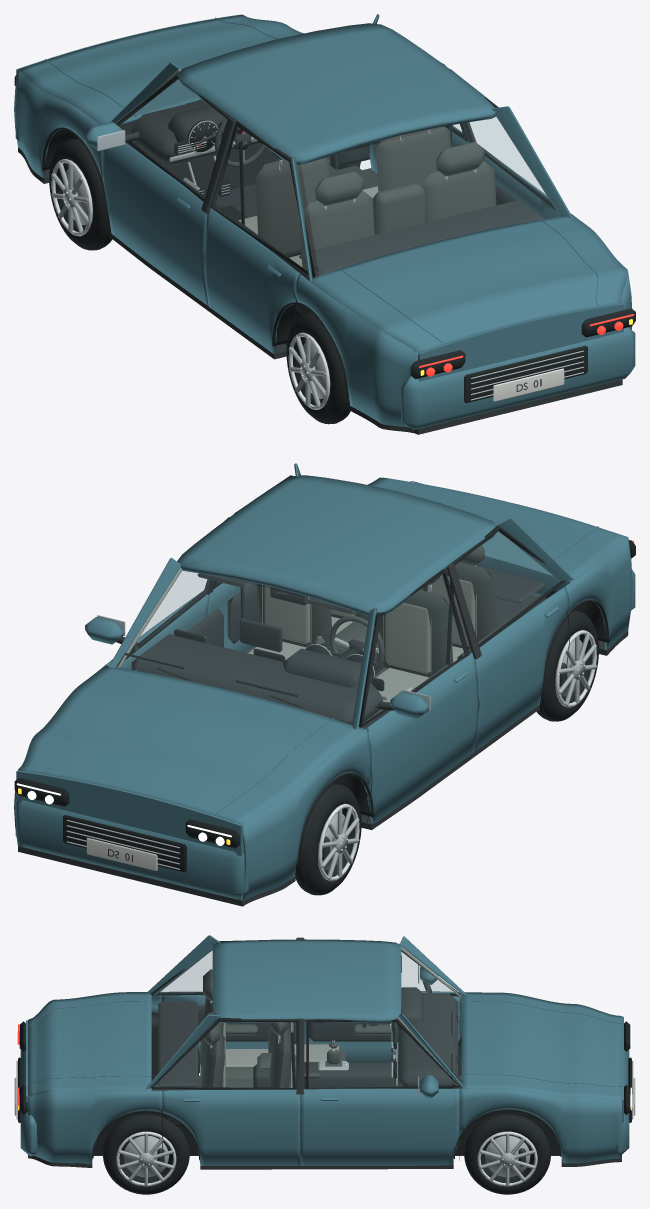
The model's file is DS_Sedan_A_closed_shell.glb.
The picture shows the model from 3 angles, top to bottom: view 1: azimuth 30°, elevation 25°; view 2: azimuth 150°, elevation 25°; view 3: azimuth 270°, elevation 25°; orthographic projection. The views are drawn at different scales.
Parts seen in each view (by area): view 1: Roof, Trunk, Glass_Rear, Hood, DoorFront_L, DoorRear_L, RearQuarter_L, BumperFacia_-1, Glass_Rear_L, Glass_Front_L, Shell_RearUpperFacia, RearParcelShelf (+31 smaller); view 2: Hood, Roof, Glass_Windshield, DoorFront_L, Dashboard, DoorRear_L, Trunk, Glass_Front_L, FrontWing_L, BumperFacia_1, Glass_Rear_L, Shell_FrontUpperFacia (+36 smaller); view 3: Roof, Hood, DoorFront_R, Trunk, DoorRear_R, Glass_Front_R, Glass_Rear_R, FrontWing_R, RearQuarter_R, Glass_Windshield, Glass_Rear, Dashboard (+31 smaller).
Part boxes in pixels (<box>): Roof: <box>176,23,495,164</box>; Trunk: <box>306,214,627,352</box>; Glass_Rear: <box>301,115,560,275</box>; Hood: <box>18,14,303,125</box>; DoorFront_L: <box>101,143,208,306</box>; DoorRear_L: <box>204,208,300,354</box>; RearQuarter_L: <box>294,274,419,429</box>; BumperFacia_-1: <box>401,327,635,430</box>; Glass_Rear_L: <box>214,127,306,270</box>; Glass_Front_L: <box>119,81,226,197</box>; Shell_RearUpperFacia: <box>418,303,623,381</box>; RearParcelShelf: <box>299,200,544,273</box>; Hood: <box>18,665,365,824</box>; Roof: <box>177,475,495,616</box>; Glass_Windshield: <box>117,568,368,722</box>; DoorFront_L: <box>366,652,478,823</box>; Dashboard: <box>131,634,382,724</box>; DoorRear_L: <box>474,587,569,751</box>; Trunk: <box>367,477,627,582</box>; Glass_Front_L: <box>364,575,464,722</box>; FrontWing_L: <box>241,728,371,901</box>; BumperFacia_1: <box>15,800,249,898</box>; Glass_Rear_L: <box>456,532,559,643</box>; Shell_FrontUpperFacia: <box>16,770,243,856</box>; Roof: <box>212,939,401,1023</box>; Hood: <box>461,992,621,1099</box>; DoorFront_R: <box>300,1088,459,1165</box>; Trunk: <box>28,992,151,1096</box>; DoorRear_R: <box>162,1089,300,1165</box>; Glass_Front_R: <box>309,1022,456,1087</box>; Glass_Rear_R: <box>155,1022,295,1087</box>; FrontWing_R: <box>459,1088,621,1163</box>; RearQuarter_R: <box>28,1090,162,1164</box>; Glass_Windshield: <box>402,951,462,1079</box>; Glass_Rear: <box>150,947,212,1081</box>; Dashboard: <box>398,993,458,1088</box>.
Bounding box in the file's own units: 2.25 × 1.46 × 4.68.
